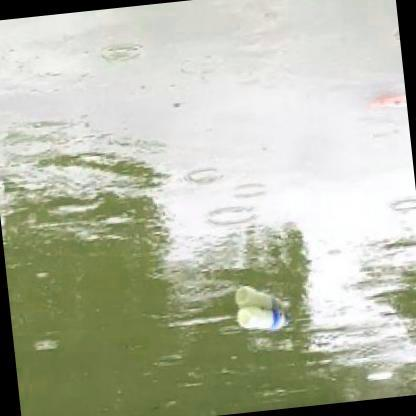Plastic: (237, 301, 291, 333)
